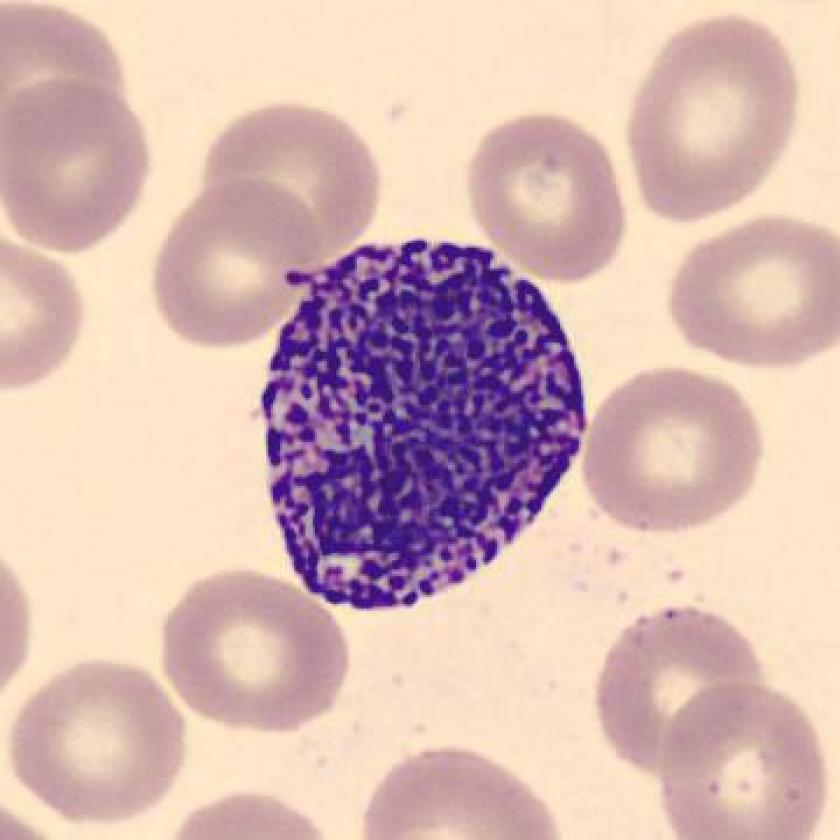basophil: (253, 230, 608, 626)
